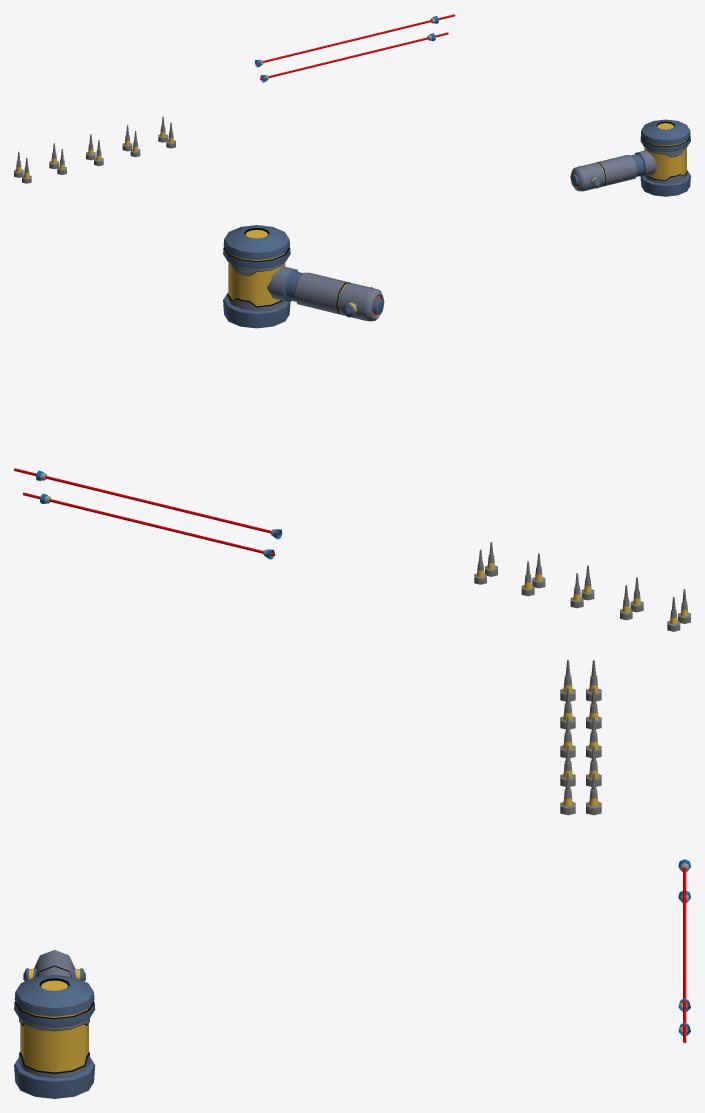
File: LaserSpike.fbx
The picture shows the model from 3 angles, top to bottom: view 1: azimuth 30°, elevation 25°; view 2: azimuth 150°, elevation 25°; view 3: azimuth 270°, elevation 25°; orthographic projection. The views are drawn at different scales.
Parts seen in each view (by area): view 1: Rotator, Spikes, Lasers; view 2: Rotator, Spikes, Lasers; view 3: Rotator, Spikes, Lasers.
Part boxes in pixels (bbox=[...]): Rotator: bbox=[570, 119, 690, 196]; Spikes: bbox=[14, 116, 175, 183]; Lasers: bbox=[255, 14, 455, 82]; Rotator: bbox=[223, 225, 384, 328]; Spikes: bbox=[474, 542, 690, 631]; Lasers: bbox=[14, 468, 282, 559]; Rotator: bbox=[14, 950, 95, 1098]; Spikes: bbox=[560, 660, 601, 815]; Lasers: bbox=[678, 859, 690, 1042].
Bounding box in the file's own units: 2803 × 322 × 2020.
